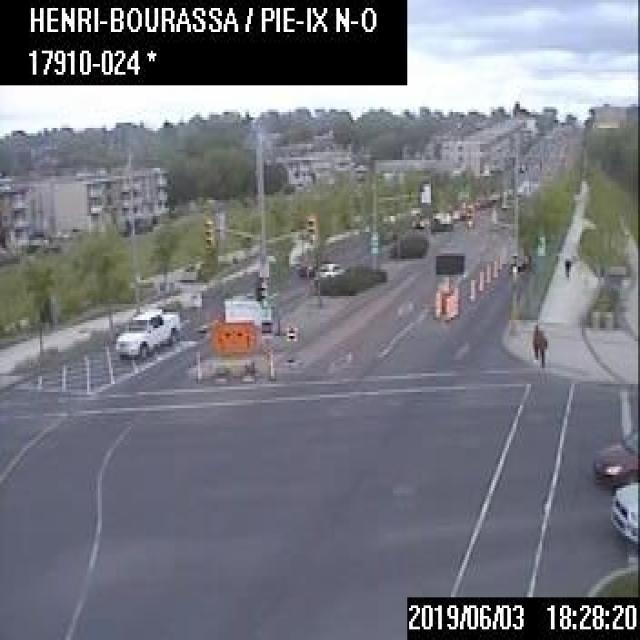construction: (209, 296, 271, 379), (431, 251, 464, 317), (434, 289, 440, 316), (468, 277, 473, 299), (477, 268, 482, 290), (444, 295, 448, 319), (492, 258, 496, 278), (485, 262, 489, 280)
pedestrian: (531, 320, 540, 357), (539, 327, 546, 364), (562, 256, 569, 275)
vehicle: (115, 307, 178, 357), (592, 428, 638, 486), (609, 483, 638, 544), (313, 259, 342, 280)
